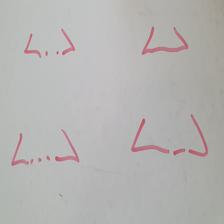composite: (130, 113, 210, 158), (12, 129, 80, 166), (25, 28, 76, 57), (141, 25, 190, 55)
